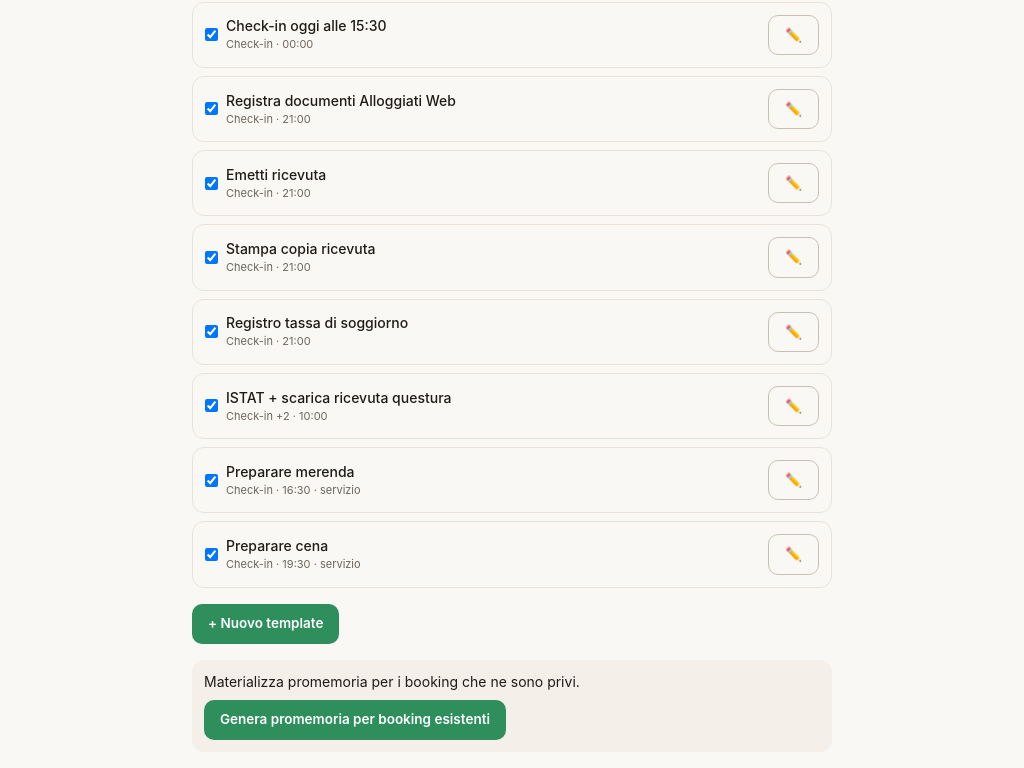
Test: TemplatesPage › saves a new custom template when title is filled and Salva clicked
(page scrolled)
Click the button "+ Nuovo template".
click(266, 624)  # box [192, 604, 339, 644]
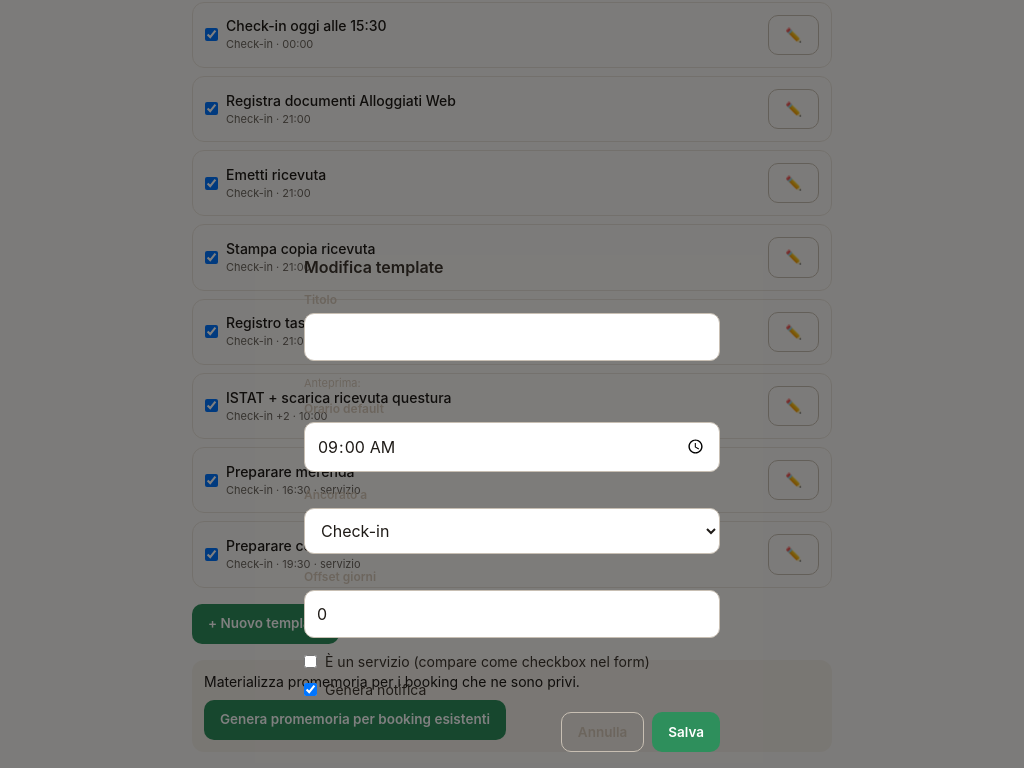
Type "Nuovo test" into the field labelled "Titolo".
click(512, 337); type("Nuovo test")  # box [304, 313, 720, 361]
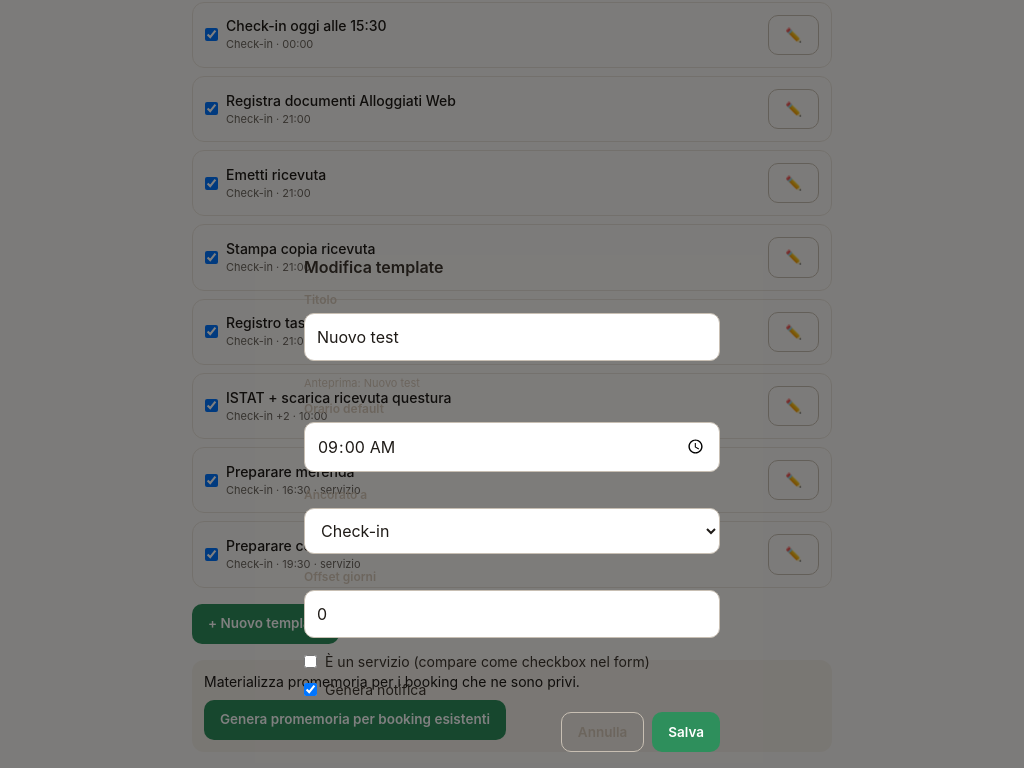
Click the button "Salva".
click(686, 732)  # box [652, 712, 720, 752]
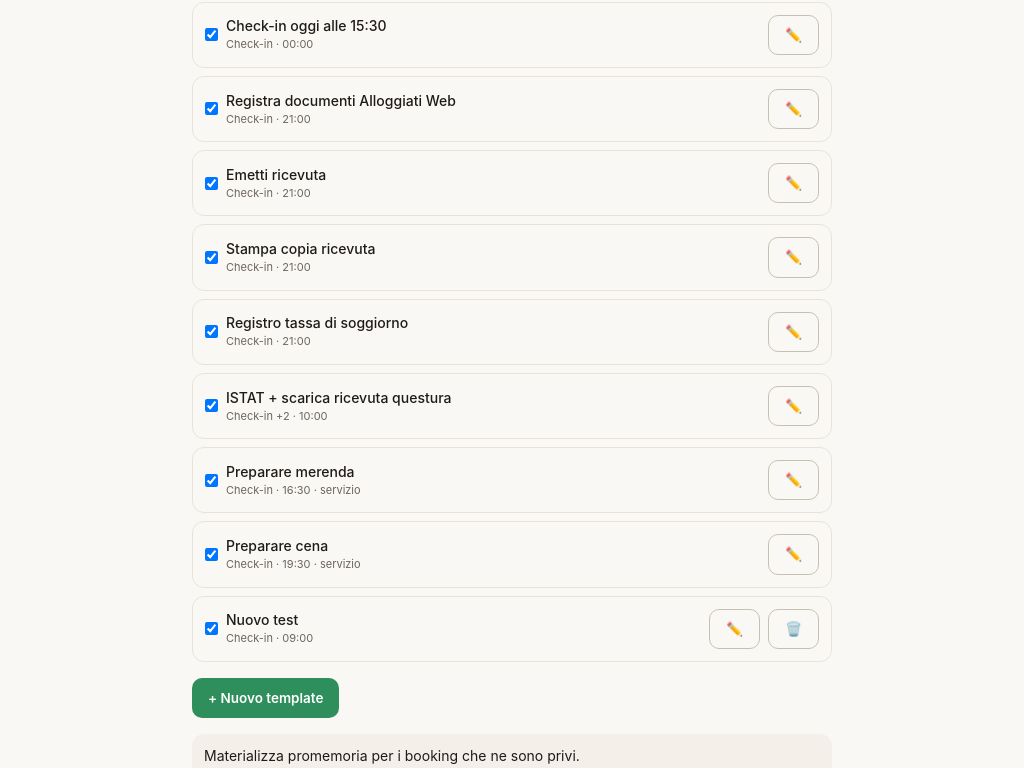
Result: the heading "Modifica template" is gone
